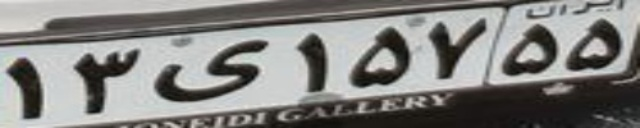1: (5, 55, 43, 119), (294, 32, 328, 92)
3: (70, 48, 136, 115)
5: (345, 25, 413, 88), (499, 21, 556, 76), (565, 18, 620, 72)
7: (423, 15, 486, 79)
ye: (151, 38, 267, 102)
